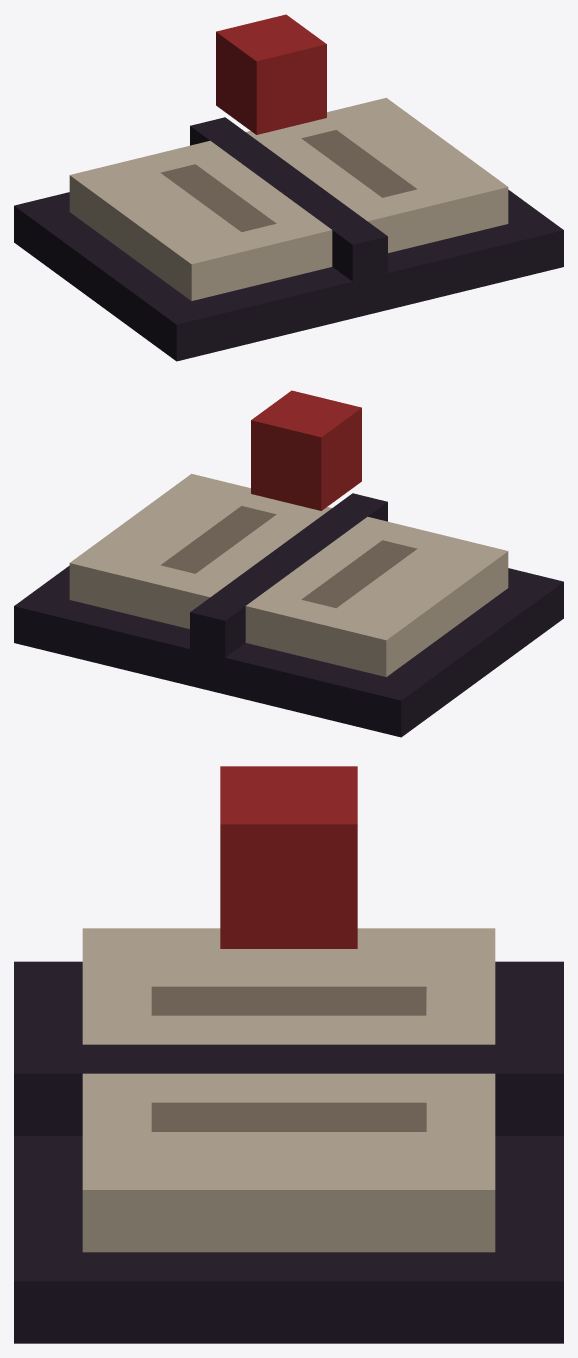
The model's file is vox_tome_seal.glb.
3 renders of one model, top to bottom at view 1: azimuth 30°, elevation 25°; view 2: azimuth 150°, elevation 25°; view 3: azimuth 270°, elevation 25°, orthographic. The views are drawn at different scales.
Visible parts, largest first — view 1: vox_tome_seal; view 2: vox_tome_seal; view 3: vox_tome_seal.
Part boxes in pixels (left/top/right/bottom): vox_tome_seal: left=14, top=14, right=563, bottom=361; vox_tome_seal: left=14, top=390, right=563, bottom=737; vox_tome_seal: left=14, top=766, right=563, bottom=1343.
Bounding box in the file's own units: 0.22 × 0.12 × 0.16.
